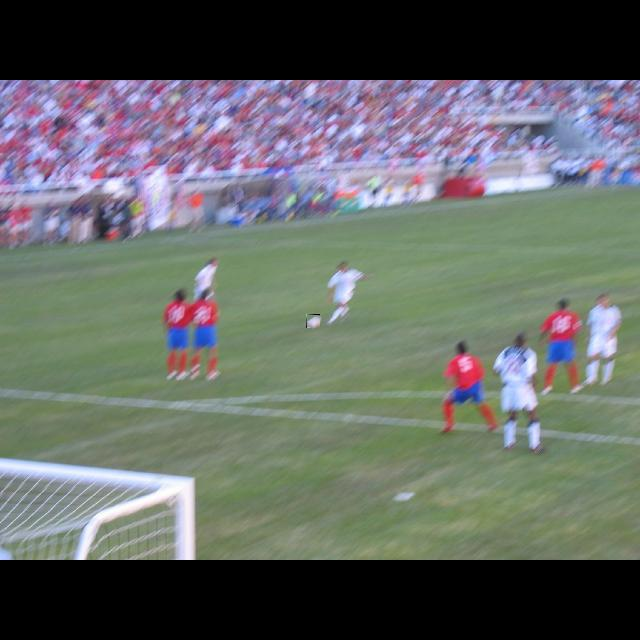Football: (306, 314, 320, 328)
